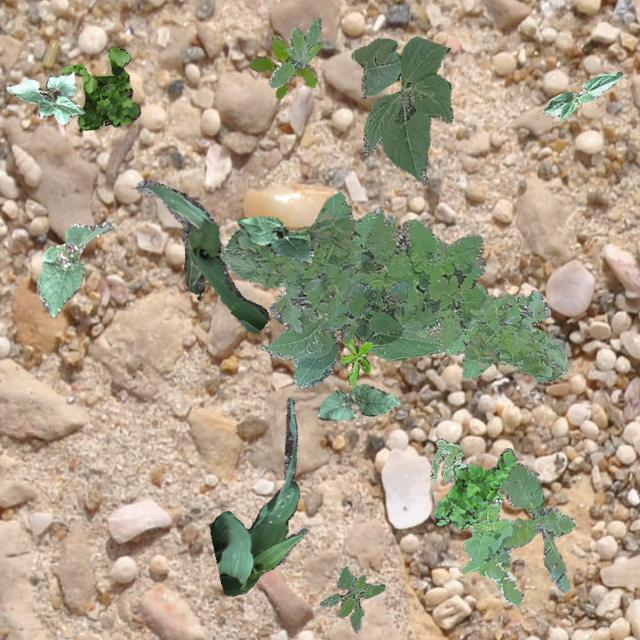crop: (258, 215, 440, 388), (134, 178, 268, 332), (208, 396, 308, 594), (350, 36, 452, 184), (36, 222, 112, 316), (6, 72, 84, 124), (542, 70, 622, 120), (235, 214, 312, 264), (318, 382, 400, 420)
weed: (220, 190, 486, 332), (414, 284, 568, 382), (476, 462, 574, 604), (428, 438, 512, 572), (59, 44, 140, 130), (434, 447, 514, 528), (316, 280, 408, 342), (318, 566, 384, 632), (248, 34, 316, 98), (267, 18, 323, 86), (338, 338, 370, 386)
